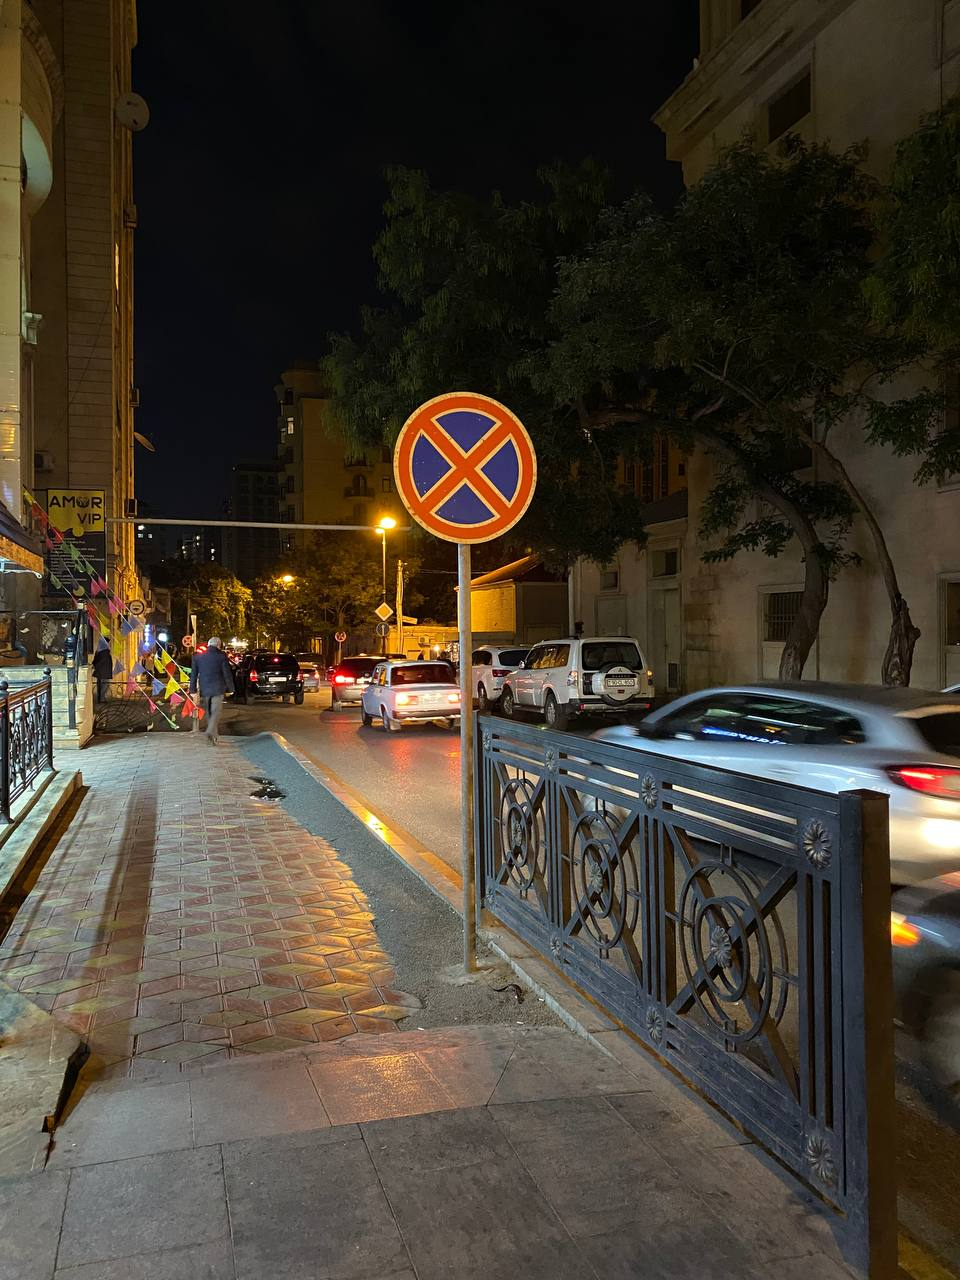No Parking: (394, 391, 537, 546)
